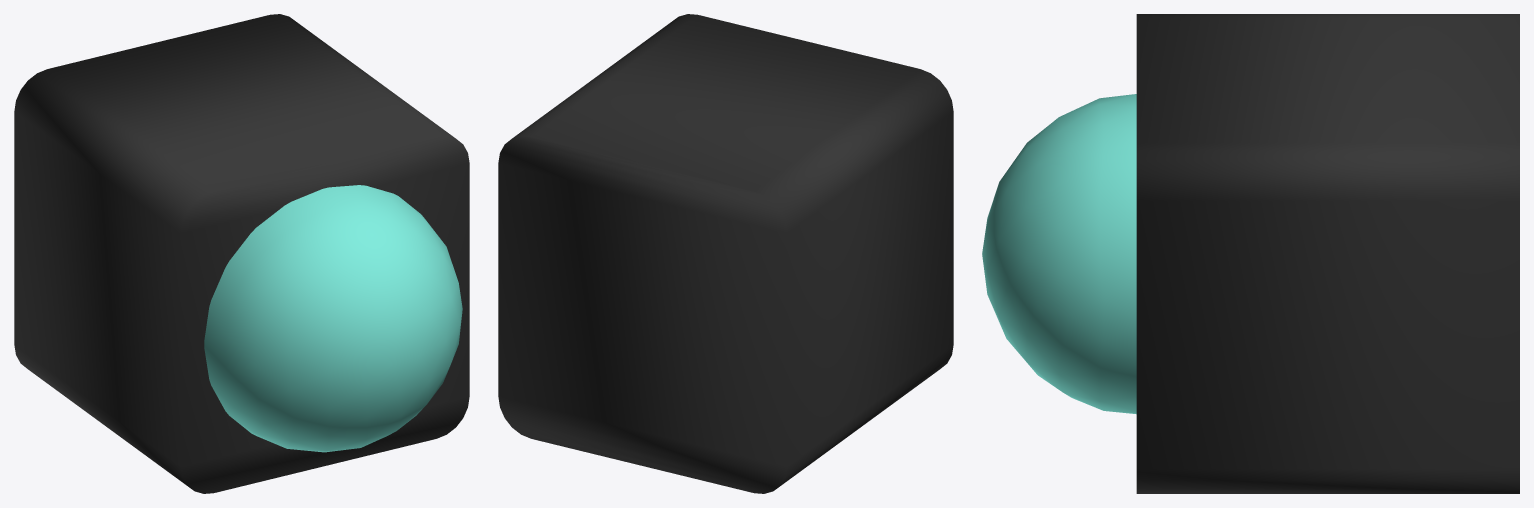
Rendered from emitter.gltf.
3 views of the same model, side by side, from view 1: azimuth 30°, elevation 25°; view 2: azimuth 150°, elevation 25°; view 3: azimuth 270°, elevation 25° (orthographic). The views are drawn at different scales.
Visible parts, largest first — view 1: Cube; view 2: Cube; view 3: Cube.
Boxes of the visible parts, box(x1,y1,x2,y2) form: Cube: box(14, 14, 469, 493); Cube: box(498, 14, 953, 493); Cube: box(982, 14, 1519, 493).
Size of what is drawn, in the model's own units: 0.3548 by 0.3548 by 0.4977.
